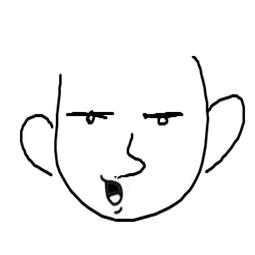large_ear: (195, 82, 255, 182), (19, 104, 62, 177)
nose: (116, 125, 151, 177)
open_mouth: (95, 173, 126, 210)
small_eye: (63, 102, 124, 128), (139, 104, 188, 130)
